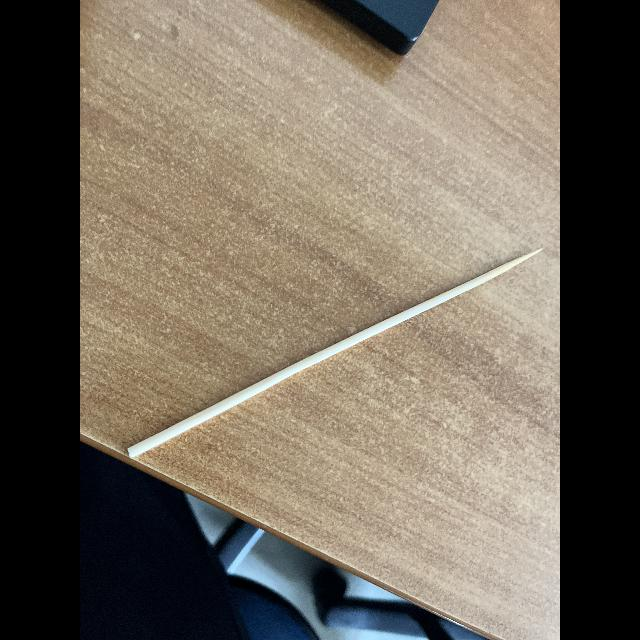stick: (116, 228, 554, 482)
